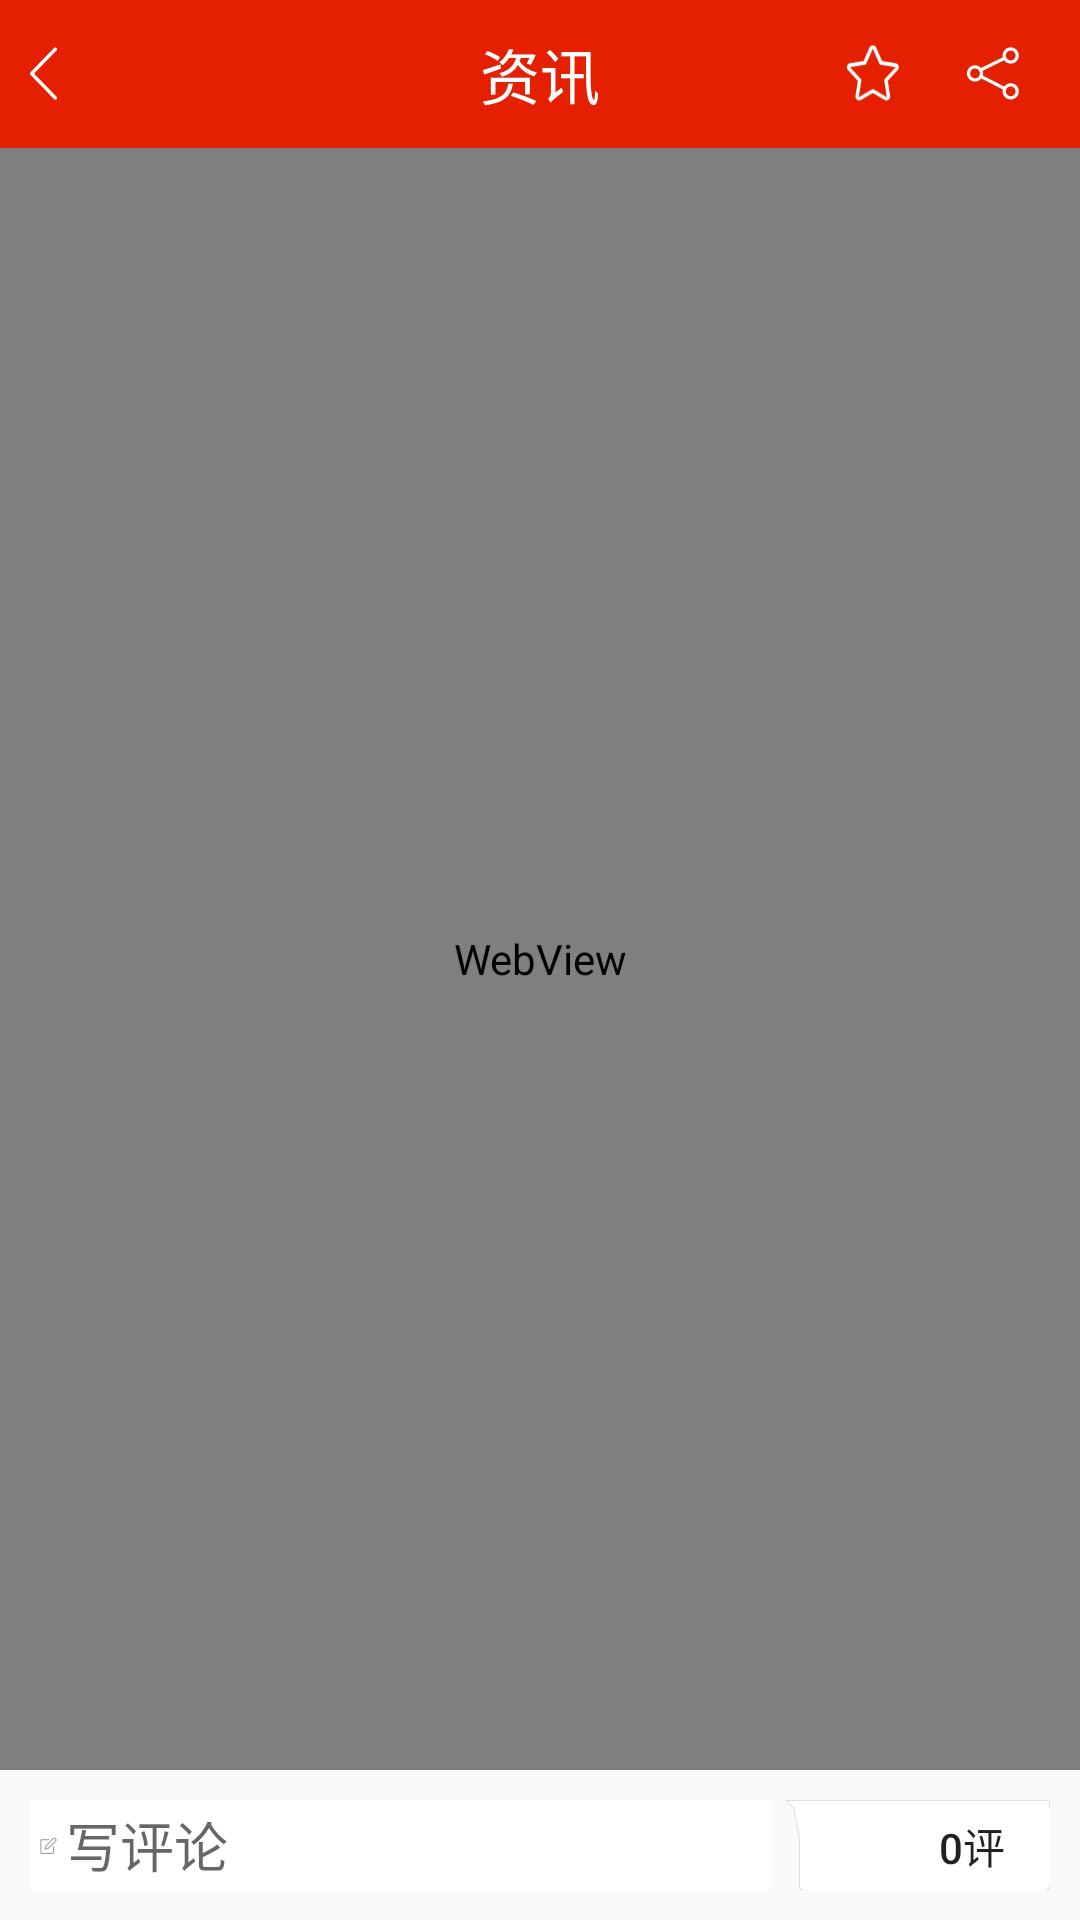

Icons on this 1080*1920 Android screen, each with its box as box=[x1, y1, x2, y2]:
back: box=[30, 47, 57, 100]
share: box=[967, 47, 1019, 100]
